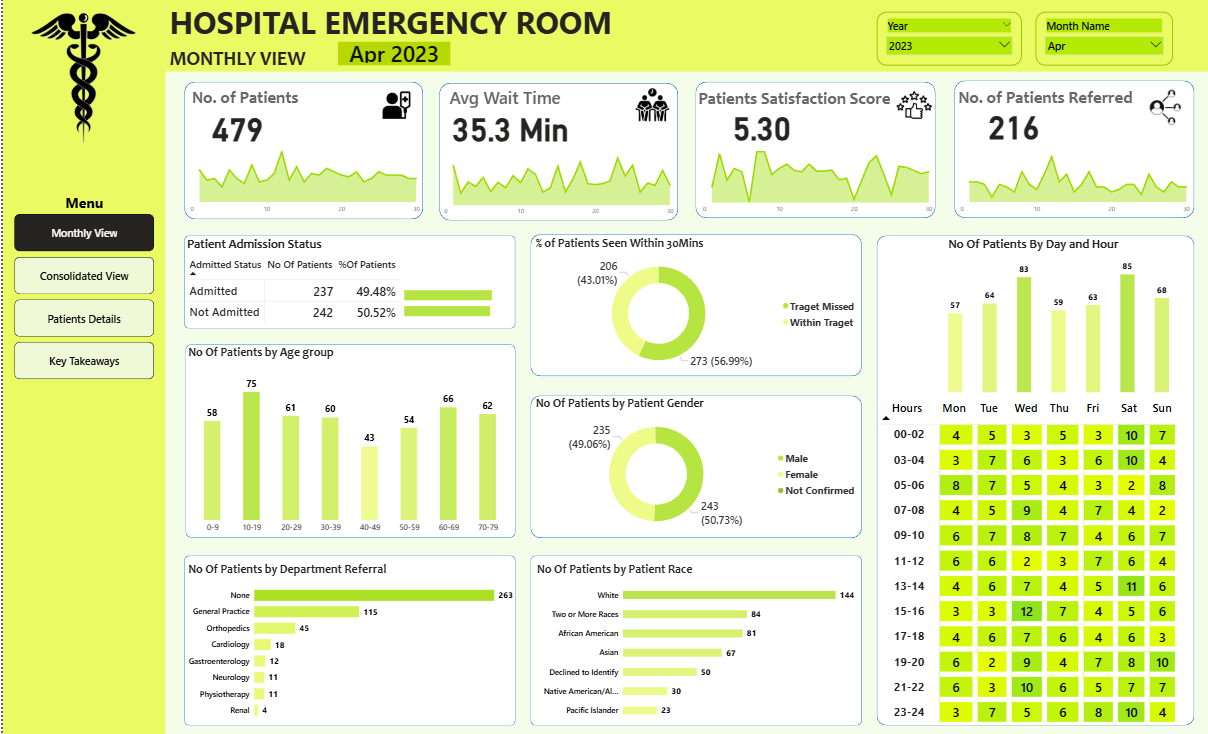

What the dashboard file says about the page in this screenshot:
{"tool":"powerbi","page":{"name":"Monthly View ","canvas":[2300,1400],"ordinal":0},"visuals":[{"type":"shape","box":[344.8,160.3,454.1,261.6],"z":0},{"type":"shape","box":[0,0,309.1,1400],"z":1000},{"type":"shape","box":[309.1,0,1990.2,140.3],"z":2000},{"type":"textbox","box":[311.5,0,875,88],"z":3000},{"type":"textbox","box":[311.5,88,437.5,90.4],"z":4000},{"type":"card","fields":{"Values":["Hospital ER_Data.No Of Patients"]},"box":[347.1,201.9,198.3,83.3],"z":5000},{"type":"slicer","fields":{"Values":["DATE TABLE.Year"]},"box":[1662,26.2,275.8,102.2],"z":6000},{"type":"slicer","fields":{"Values":["DATE TABLE.Month Name"]},"box":[1964,26.2,261.6,102.2],"z":7000},{"type":"textbox","box":[353.8,163.6,285,50],"z":8000},{"type":"card","fields":{"Values":["Min(DATE TABLE.year and month)"]},"box":[637.2,83.2,214,45.2],"z":9000},{"type":"shape","box":[829.8,162.6,454.1,261.6],"z":10000},{"type":"card","fields":{"Values":["Min(Hospital ER_Data.Avg Wait Time)"]},"box":[841.7,203.1,247.3,83.2],"z":11000},{"type":"textbox","box":[844.1,162.6,285.3,52.3],"z":12000},{"type":"shape","box":[1317.3,160.3,456.5,259.2],"z":13000},{"type":"card","fields":{"Values":["Hospital ER_Data.satisfaction score"]},"box":[1342.7,199,198.3,83.3],"z":14000},{"type":"textbox","box":[1317.3,166.4,375.7,73.7],"z":15000},{"type":"areaChart","fields":{"Y":["Hospital ER_Data.No Of Patients"],"Category":["DATE TABLE.Date.Variation.Date Hierarchy.Day"]},"box":[344.8,279.1,456.5,140.3],"z":16000},{"type":"shape","box":[1809.5,157.9,456.5,261.6],"z":17000},{"type":"card","fields":{"Values":["Hospital ER_Data.no of patients referred"]},"box":[1822.6,197.6,198.3,83.3],"z":18000},{"type":"textbox","box":[1811.8,164.1,454.1,49.9],"z":19000},{"type":"areaChart","fields":{"Category":["DATE TABLE.Date.Variation.Date Hierarchy.Day"],"Y":["Avg(Hospital ER_Data.Patient Waittime)"]},"box":[827.5,283.9,456.5,140.3],"z":20000},{"type":"areaChart","fields":{"Category":["DATE TABLE.Date.Variation.Date Hierarchy.Day"],"Y":["Hospital ER_Data.satisfaction score"]},"box":[1319.6,279.1,456.5,140.3],"z":21000},{"type":"areaChart","fields":{"Category":["DATE TABLE.Date.Variation.Date Hierarchy.Day"],"Y":["Hospital ER_Data.no of patients referred"]},"box":[1809.5,279.1,456.5,140.3],"z":22000},{"type":"shape","box":[344.8,452.3,630,177],"z":23000},{"type":"pivotTable","title":"Patient Admission Status","fields":{"Rows":["Hospital ER_Data.Admitted Status"],"Values":["Hospital ER_Data.No Of Patients1","Divide(Hospital ER_Data.No Of Patients, ScopedEval(Hospital ER_Data.No Of Patients, []))"]},"box":[344.8,452.3,425,180.7],"z":24000},{"type":"barChart","fields":{"Category":["Hospital ER_Data.Admitted Status"],"Y":["Hospital ER_Data.No Of Patients"]},"box":[758.5,528.4,216.4,99.9],"z":25000},{"type":"shape","box":[347.1,659.4,627.7,368],"z":26000},{"type":"clusteredColumnChart","fields":{"Category":["Hospital ER_Data.Age group"],"Y":["Hospital ER_Data.No Of Patients"]},"box":[347.1,659.4,627.7,368.5],"z":27000},{"type":"shape","box":[344.8,1060.5,630.1,323.4],"z":28000},{"type":"clusteredBarChart","fields":{"Category":["Hospital ER_Data.Department Referral"],"Y":["Hospital ER_Data.No Of Patients"]},"box":[347.1,1072.4,630.1,311.5],"z":29000},{"type":"shape","box":[1003.4,449.4,630.1,270],"z":30000},{"type":"shape","box":[1003.4,756.1,630.1,271.1],"z":31000},{"type":"shape","box":[1003.4,1060.5,630.1,323.4],"z":32000},{"type":"clusteredBarChart","fields":{"Y":["Hospital ER_Data.No Of Patients"],"Category":["Hospital ER_Data.Patient Race"]},"box":[1010.5,1072.4,623,311.5],"z":33000},{"type":"donutChart","fields":{"Y":["Hospital ER_Data.No Of Patients"],"Category":["Hospital ER_Data.Patient Gender"]},"box":[1008.2,756.1,625.3,271.1],"z":34000},{"type":"donutChart","title":"% of Patients Seen Within 30Mins","fields":{"Category":["Hospital ER_Data.patient seen in 30min"],"Y":["Hospital ER_Data.No Of Patients"]},"box":[1008.2,451.8,625.3,268.7],"z":35000},{"type":"shape","box":[1662,451.8,603.9,932.1],"z":36000},{"type":"pivotTable","fields":{"Rows":["Hospital ER_Data.Time interval"],"Columns":["DATE TABLE.day name"],"Values":["Hospital ER_Data.No Of Patients"]},"box":[1662,756.1,603.9,627.7],"z":37000},{"type":"columnChart","title":"No Of Patients By Day and Hour","fields":{"Category":["DATE TABLE.day name"],"Y":["Hospital ER_Data.No Of Patients"]},"box":[1792.8,451.8,432.7,304.3],"z":38000},{"type":"image","box":[696.7,166.4,102.2,73.7],"z":39000},{"type":"image","box":[1186.5,166.4,97.5,73.7],"z":40000},{"type":"image","box":[1692.9,159.3,80.8,88],"z":41000},{"type":"image","box":[2156.6,166.4,109.4,83.2],"z":42000},{"type":"image","box":[33.3,23.8,240.2,256.8],"z":43000},{"type":"pageNavigator","title":"Menu","box":[21.4,370.9,266.3,356.7],"z":44000},{"type":"actionButton","box":[33.3,663.4,240.2,57.1],"z":45000},{"type":"actionButton","box":[33.3,577.8,240.2,57.1],"z":46000},{"type":"actionButton","box":[33.3,499.3,240.2,57.1],"z":47000}]}

Visuals, with their boxes in screenshot pixels (x1, y1, x2, y2), scaled from the page's 2300x1400 canvas onto the 1208x734 screenshot:
shape: 181:84:420:221
shape: 0:0:162:733
shape: 162:0:1207:74
textbox: 164:0:623:46
textbox: 164:46:393:94
card - Hospital ER_Data.No Of Patients: 182:106:286:150
slicer - DATE TABLE.Year: 873:14:1018:67
slicer - DATE TABLE.Month Name: 1032:14:1169:67
textbox: 186:86:336:112
card - Min(DATE TABLE.year and month): 335:44:447:67
shape: 436:85:674:222
card - Min(Hospital ER_Data.Avg Wait Time): 442:106:572:150
textbox: 443:85:593:113
shape: 692:84:932:220
card - Hospital ER_Data.satisfaction score: 705:104:809:148
textbox: 692:87:889:126
areaChart - Hospital ER_Data.No Of Patients x DATE TABLE.Date.Variation.Date Hierarchy.Day: 181:146:421:220
shape: 950:83:1190:220
card - Hospital ER_Data.no of patients referred: 957:104:1061:147
textbox: 952:86:1190:112
areaChart - DATE TABLE.Date.Variation.Date Hierarchy.Day x Avg(Hospital ER_Data.Patient Waittime): 435:149:674:222
areaChart - DATE TABLE.Date.Variation.Date Hierarchy.Day x Hospital ER_Data.satisfaction score: 693:146:933:220
areaChart - DATE TABLE.Date.Variation.Date Hierarchy.Day x Hospital ER_Data.no of patients referred: 950:146:1190:220
shape: 181:237:512:330
"Patient Admission Status" pivotTable: 181:237:404:332
barChart - Hospital ER_Data.Admitted Status x Hospital ER_Data.No Of Patients: 398:277:512:329
shape: 182:346:512:539
clusteredColumnChart - Hospital ER_Data.Age group x Hospital ER_Data.No Of Patients: 182:346:512:539
shape: 181:556:512:726
clusteredBarChart - Hospital ER_Data.Department Referral x Hospital ER_Data.No Of Patients: 182:562:513:726
shape: 527:236:858:377
shape: 527:396:858:539
shape: 527:556:858:726
clusteredBarChart - Hospital ER_Data.No Of Patients x Hospital ER_Data.Patient Race: 531:562:858:726
donutChart - Hospital ER_Data.No Of Patients x Hospital ER_Data.Patient Gender: 530:396:858:539
"% of Patients Seen Within 30Mins" donutChart: 530:237:858:378
shape: 873:237:1190:726
pivotTable - Hospital ER_Data.Time interval x DATE TABLE.day name: 873:396:1190:726
"No Of Patients By Day and Hour" columnChart: 942:237:1169:396
image: 366:87:420:126
image: 623:87:674:126
image: 889:84:932:130
image: 1133:87:1190:131
image: 17:12:144:147
"Menu" pageNavigator: 11:194:151:381
actionButton: 17:348:144:378
actionButton: 17:303:144:333
actionButton: 17:262:144:292
